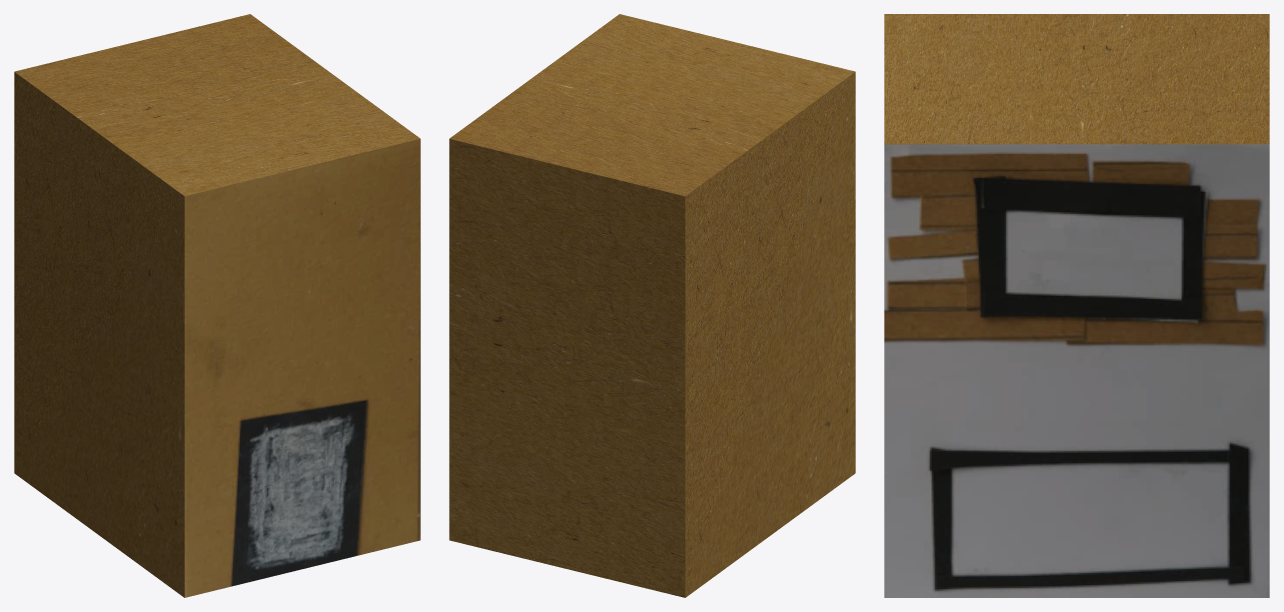
Rendered from cha.gltf.
3 renders of one model, left to right at view 1: azimuth 30°, elevation 25°; view 2: azimuth 150°, elevation 25°; view 3: azimuth 270°, elevation 25°, orthographic. The views are drawn at different scales.
Parts seen in each view (by area): view 1: Cube, Cube.001; view 2: Cube, Cube.001; view 3: Cube, Cube.001.
Part boxes in pixels (box(x1,y1,x2,y2)): Cube: box(14, 72, 420, 597); Cube.001: box(14, 14, 420, 196); Cube: box(449, 72, 855, 597); Cube.001: box(449, 14, 855, 196); Cube: box(884, 144, 1269, 597); Cube.001: box(884, 14, 1269, 144).
Bounding box in the file's own units: 8 × 13 × 10.
1 material, 1 textured.
